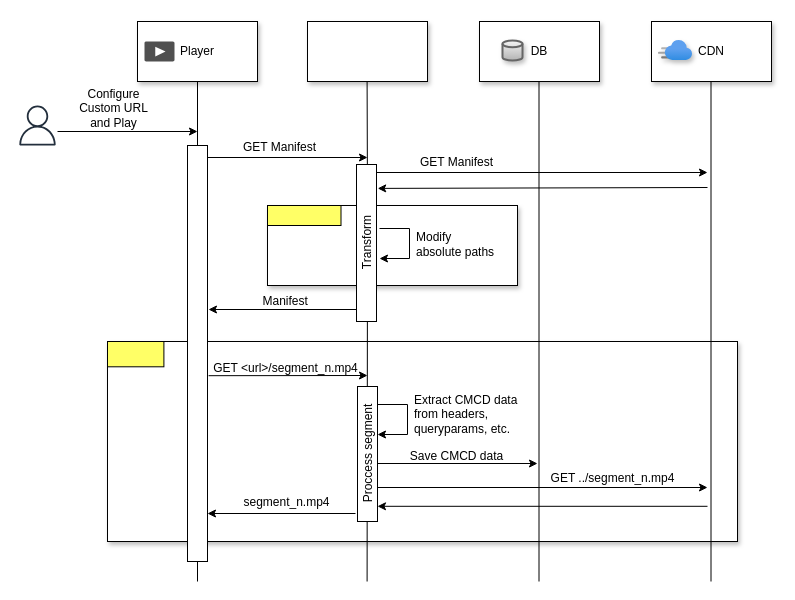
Image size: 795x600. Some labels were removed from this diagram. The centre of each missing label's shape, as x and y in pixels:
CMCD Extractor (Web proxy): [368,52]
Loop: [135,353]
Opt: [303,215]
